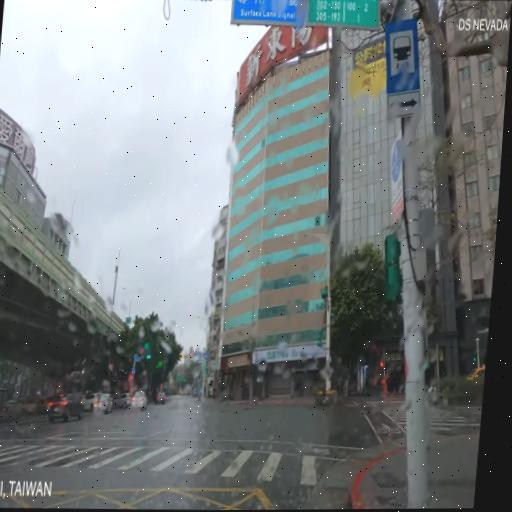Car: (49, 393, 87, 422), (92, 386, 113, 415), (83, 390, 103, 412), (115, 388, 133, 409), (0, 385, 11, 418), (19, 399, 37, 417), (132, 390, 147, 411)
